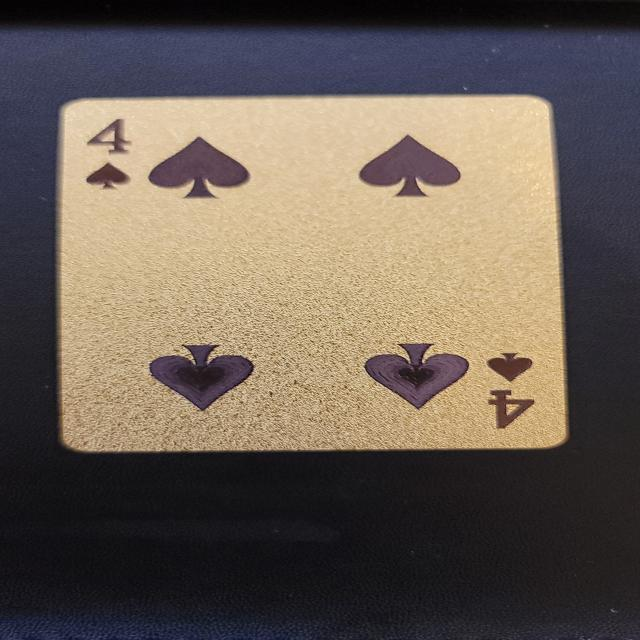4 of spades: (56, 95, 572, 453)
